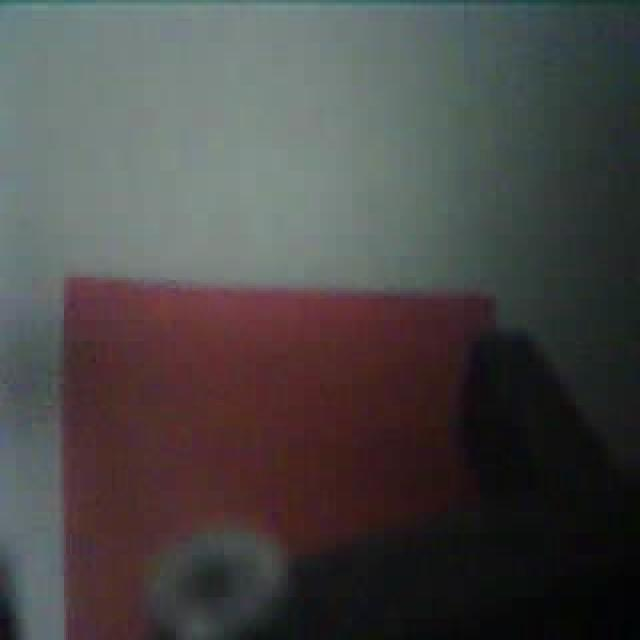red_box: (62, 276, 513, 640)
